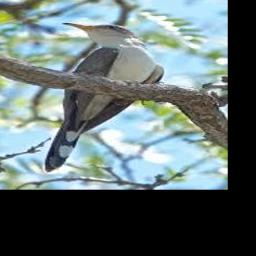Cuckoo: (43, 22, 164, 172)
